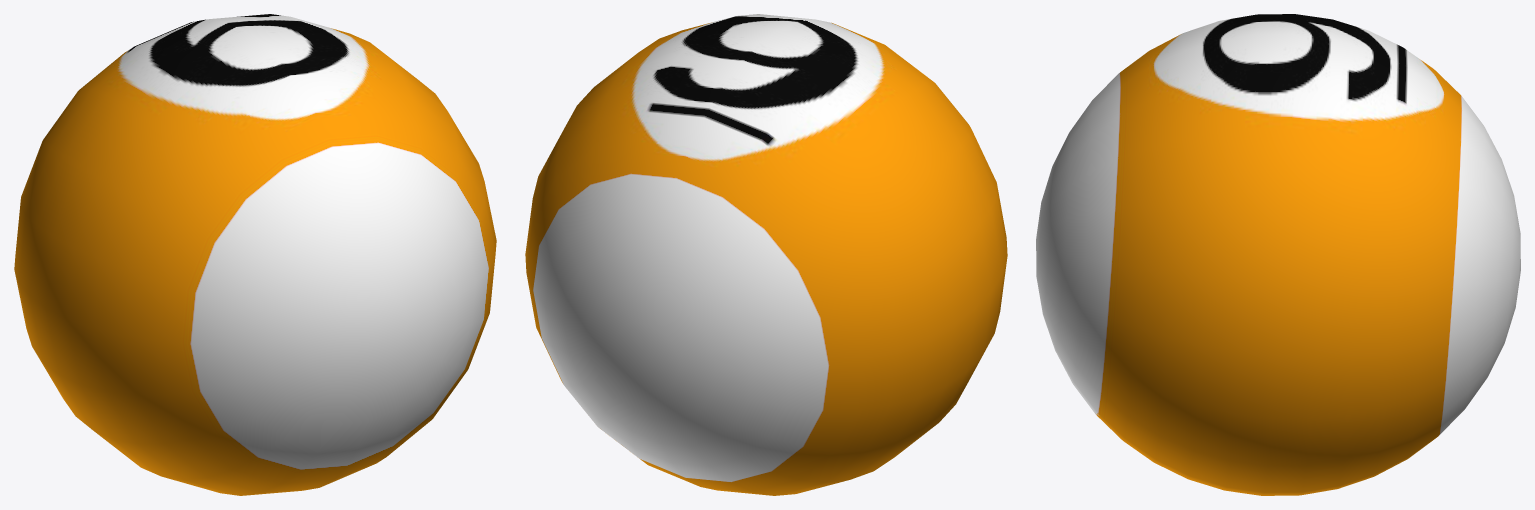
The model's file is Ball9.fbx.
3 renders of one model, left to right at view 1: azimuth 30°, elevation 25°; view 2: azimuth 150°, elevation 25°; view 3: azimuth 270°, elevation 25°, orthographic.
Parts seen in each view (by area): view 1: pSphere1; view 2: pSphere1; view 3: pSphere1.
Part boxes in pixels (box(x1,y1,x2,y2)): pSphere1: box(14, 14, 496, 495); pSphere1: box(525, 14, 1007, 495); pSphere1: box(1036, 14, 1520, 495).
Size of the model in its own units: 2 by 1.99 by 2.
